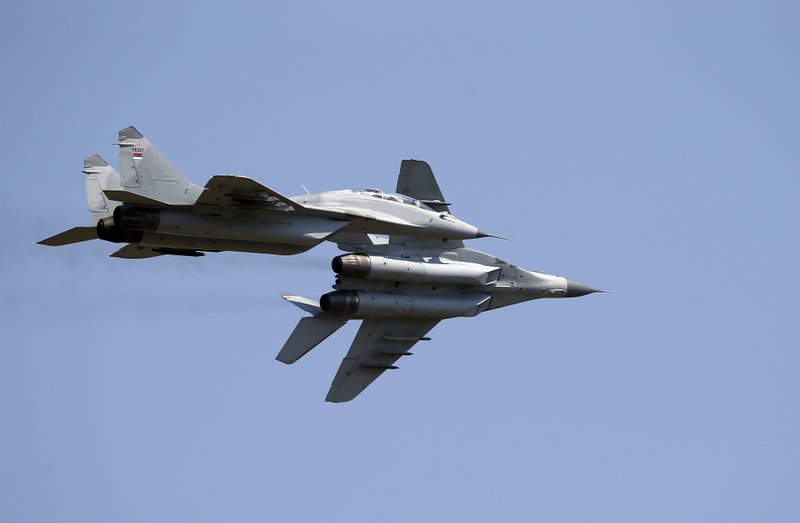Mig-29: (267, 147, 625, 410), (45, 109, 497, 270)
